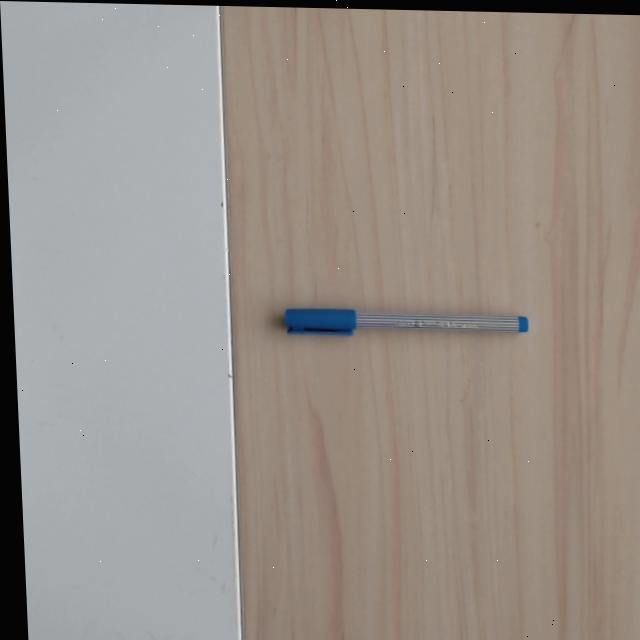Pulpen-Garis-Biru: (285, 307, 529, 338)
